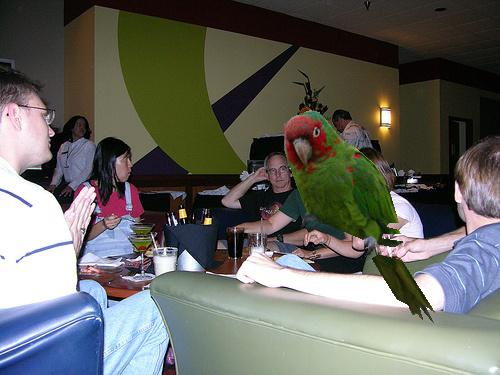tampered: (285, 111, 435, 324)
